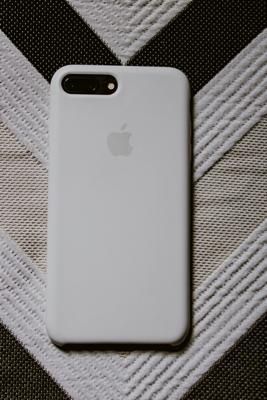Mobile Phone: (44, 62, 193, 351)
